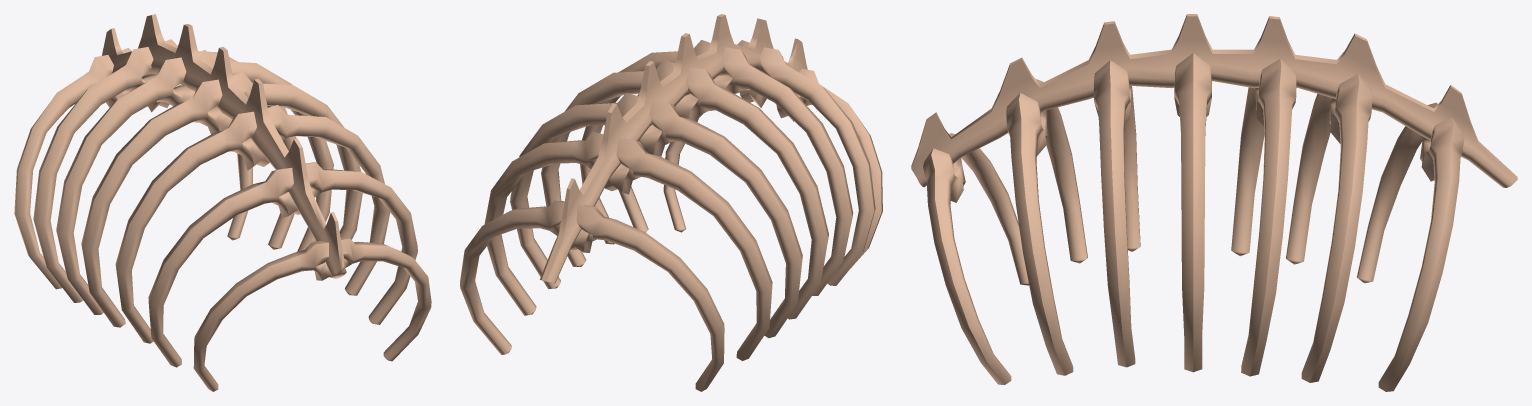
Rendered from Rib_Cage.fbx.
3 views of the same model, side by side, from view 1: azimuth 30°, elevation 25°; view 2: azimuth 150°, elevation 25°; view 3: azimuth 270°, elevation 25° (orthographic). The views are drawn at different scales.
Visible parts, largest first — view 1: Rib_Cage; view 2: Rib_Cage; view 3: Rib_Cage.
Boxes of the visible parts, x1=… form: Rib_Cage: x1=14, y1=14, x2=431, y2=391; Rib_Cage: x1=460, y1=14, x2=882, y2=391; Rib_Cage: x1=911, y1=14, x2=1517, y2=391.
Bounding box in the file's own units: 210 × 196 × 334.
